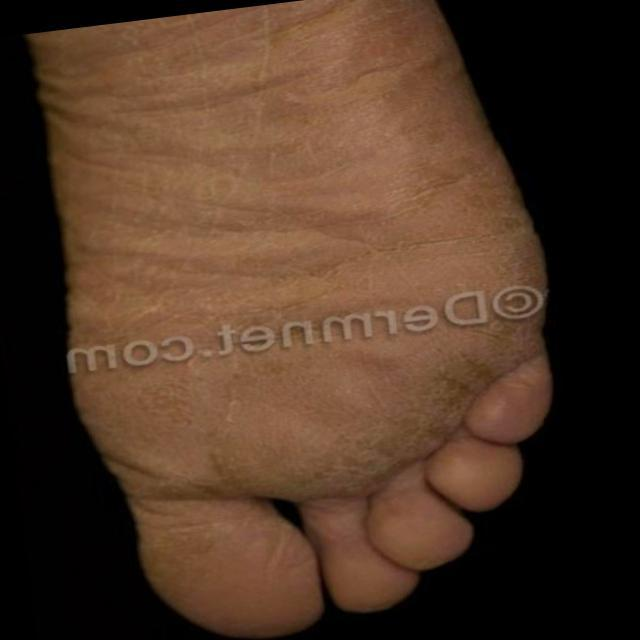Eczema: (90, 46, 543, 486)
